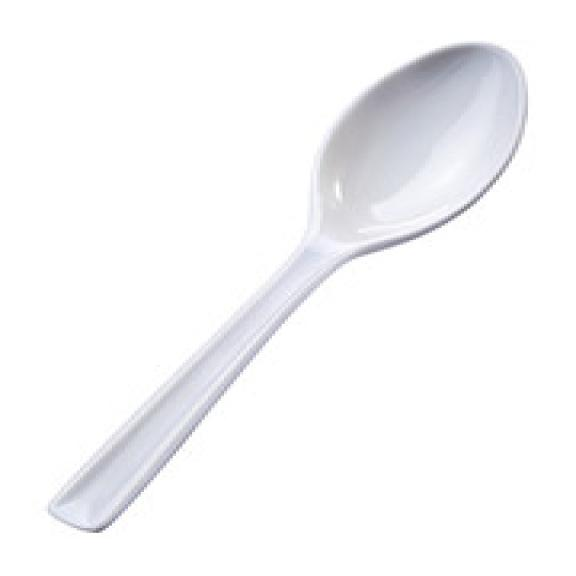Plastik: (52, 46, 524, 530)
